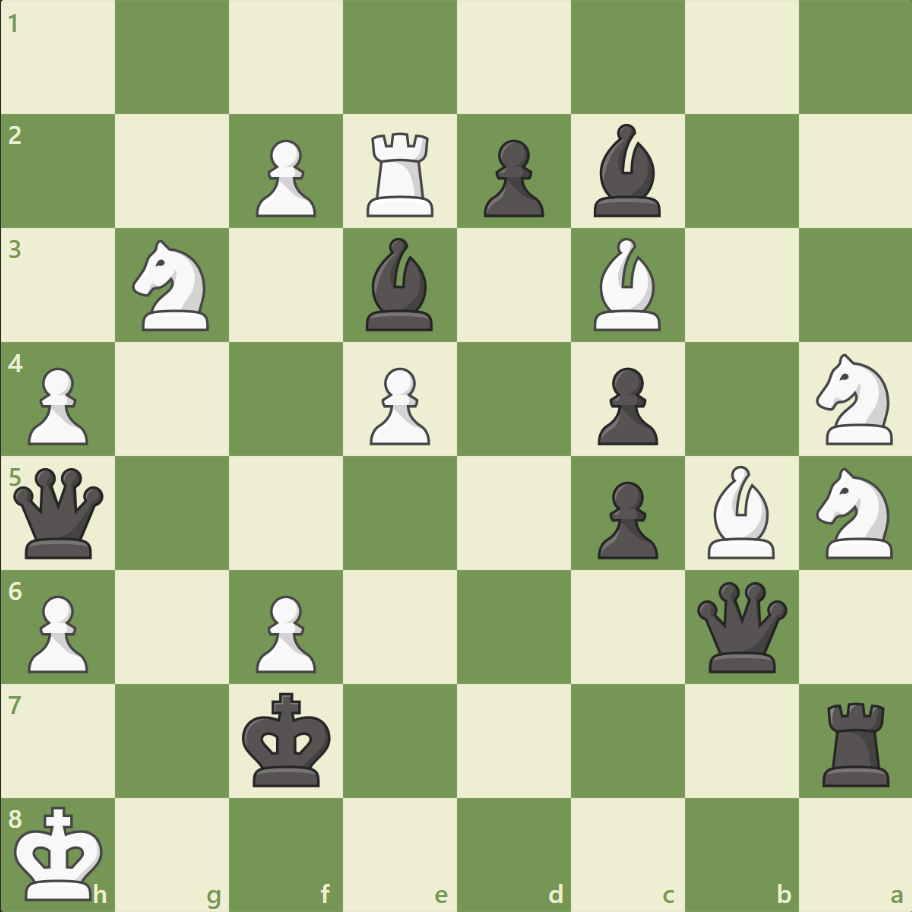B: (698, 460, 782, 563), (585, 233, 669, 336)
K: (11, 798, 111, 906)
N: (124, 234, 222, 337), (806, 461, 903, 564), (806, 348, 903, 450)
P: (247, 586, 322, 677), (20, 586, 95, 677), (20, 359, 95, 450), (247, 132, 322, 223), (361, 359, 435, 450)
R: (360, 125, 442, 222)
b: (358, 233, 442, 336), (585, 120, 669, 222)
k: (238, 685, 338, 793)
p: (474, 132, 549, 223), (588, 473, 662, 564), (588, 359, 662, 450)
q: (691, 576, 790, 676), (10, 463, 109, 562)
r: (814, 693, 897, 790)
